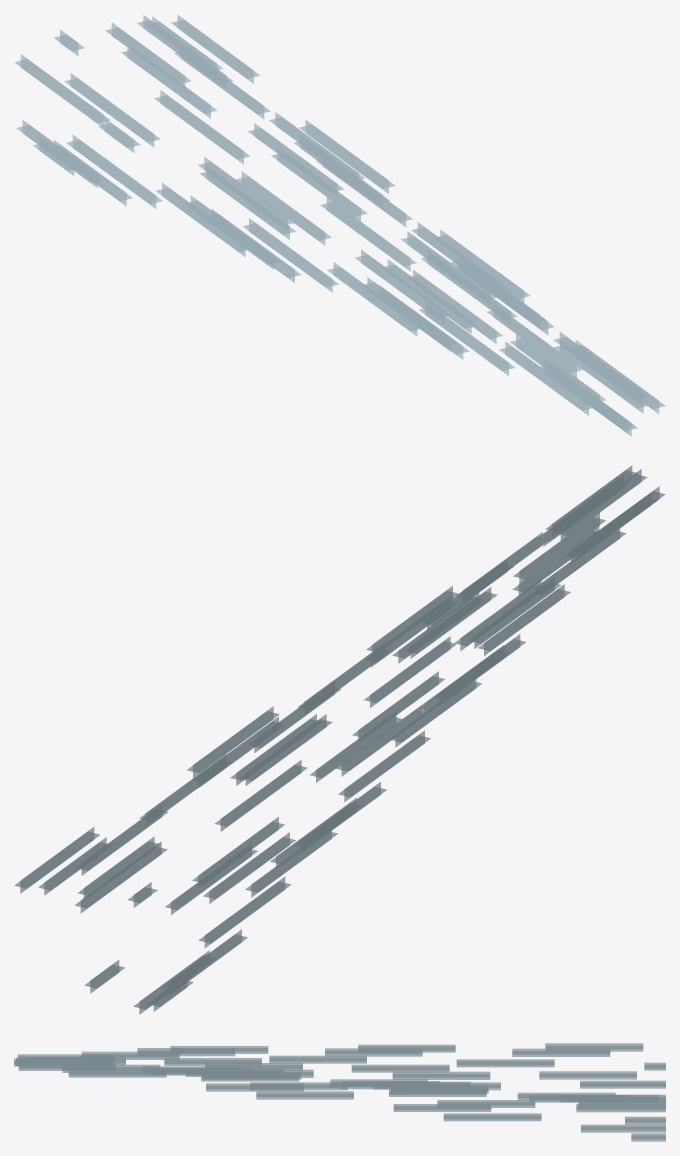
Rendered from wp_water_347.obj.
The picture shows the model from 3 angles, top to bottom: view 1: azimuth 30°, elevation 25°; view 2: azimuth 150°, elevation 25°; view 3: azimuth 270°, elevation 25°; orthographic projection. The views are drawn at different scales.
Bounding box in the file's own units: 0.3135 × 0.2591 × 1.6.
Materials: 1 (1 with a texture image).
